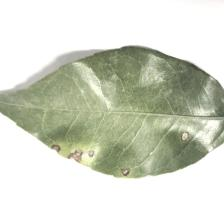canker: (39, 109, 196, 183)
